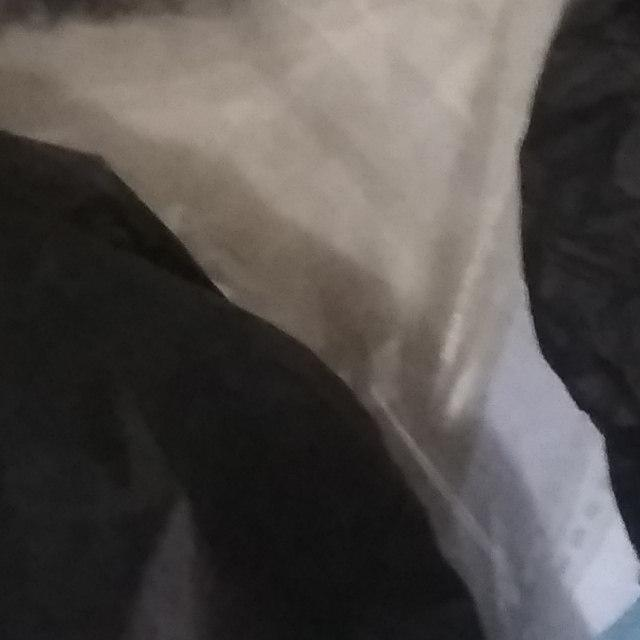plastic: (0, 0, 640, 640), (212, 301, 640, 640), (451, 0, 640, 640)
